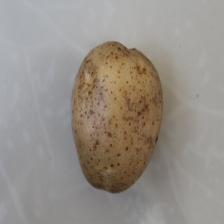Diseased-fungal potato: (68, 40, 166, 196)
